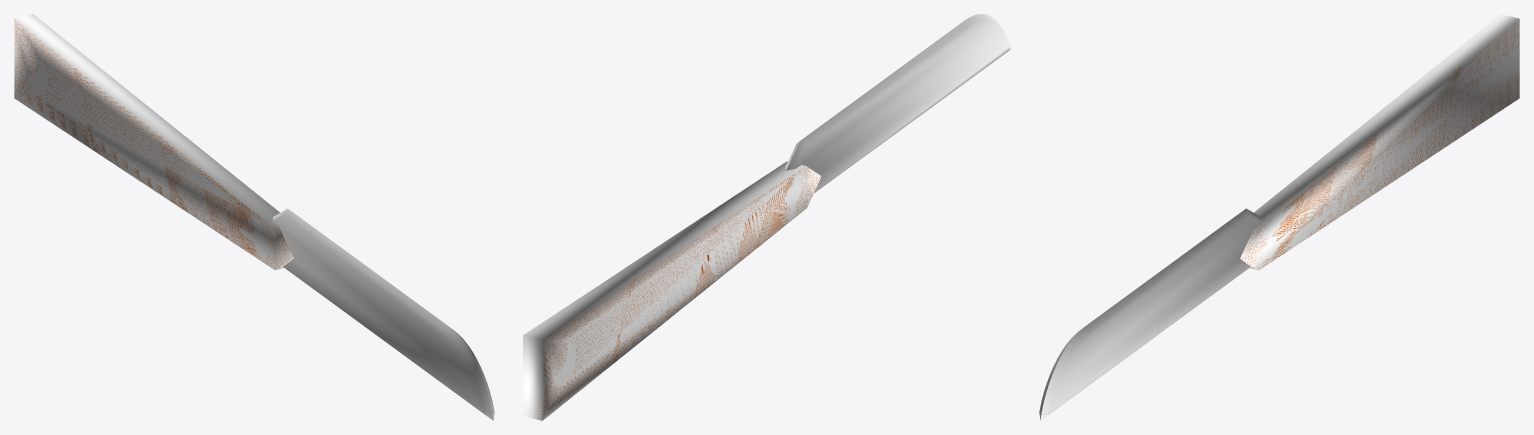
File: model_align.obj
3 renders of one model, left to right at view 1: azimuth 30°, elevation 25°; view 2: azimuth 150°, elevation 25°; view 3: azimuth 330°, elevation 25°, orthographic.
Visible parts, largest first — view 1: mesh1_mesh1-geometry, mesh2_mesh2-geometry; view 2: mesh1_mesh1-geometry, mesh2_mesh2-geometry; view 3: mesh1_mesh1-geometry, mesh2_mesh2-geometry.
Part boxes in pixels (bbox=[...]): mesh1_mesh1-geometry: bbox=[14, 14, 293, 270]; mesh2_mesh2-geometry: bbox=[272, 208, 494, 420]; mesh1_mesh1-geometry: bbox=[523, 161, 821, 420]; mesh2_mesh2-geometry: bbox=[785, 14, 1010, 193]; mesh1_mesh1-geometry: bbox=[1240, 14, 1519, 270]; mesh2_mesh2-geometry: bbox=[1039, 208, 1261, 420].
Size of the model in its own units: 0.00506 by 0.0205 by 0.2162.
